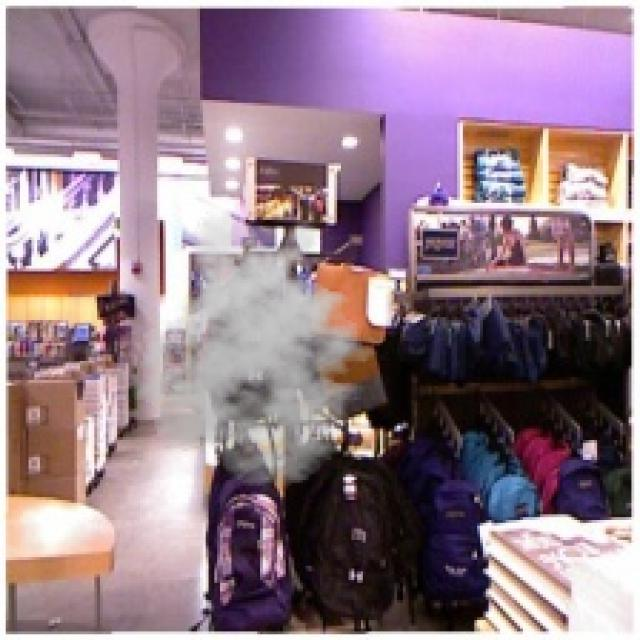smoke: (125, 208, 388, 488)
